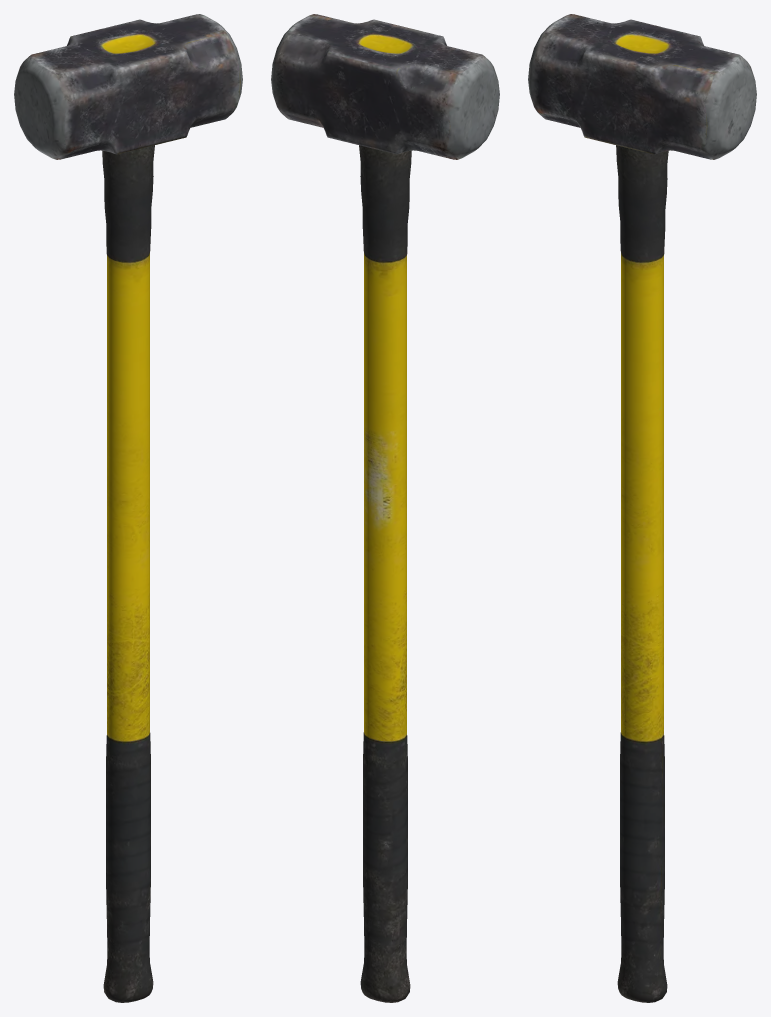
Rendered from sledgehammer_01.glb.
3 renders of one model, left to right at view 1: azimuth 30°, elevation 25°; view 2: azimuth 150°, elevation 25°; view 3: azimuth 330°, elevation 25°, orthographic.
Visible parts, largest first — view 1: sledgehammer_01; view 2: sledgehammer_01; view 3: sledgehammer_01.
Boxes of the visible parts, x1,y1,x2,y2 form: sledgehammer_01: [14, 14, 242, 1002]; sledgehammer_01: [271, 14, 499, 1002]; sledgehammer_01: [528, 14, 756, 1002].
Bounding box in the file's own units: 0.2085 × 1.01 × 0.0905.
1 material, 1 textured.
